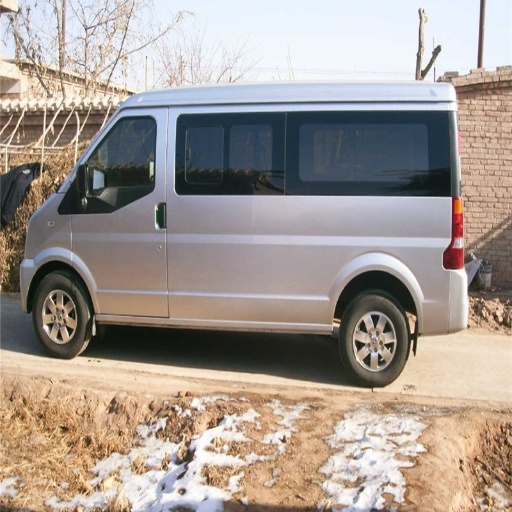back_left_door: (225, 115, 281, 222)
trunk: (283, 201, 461, 331)
